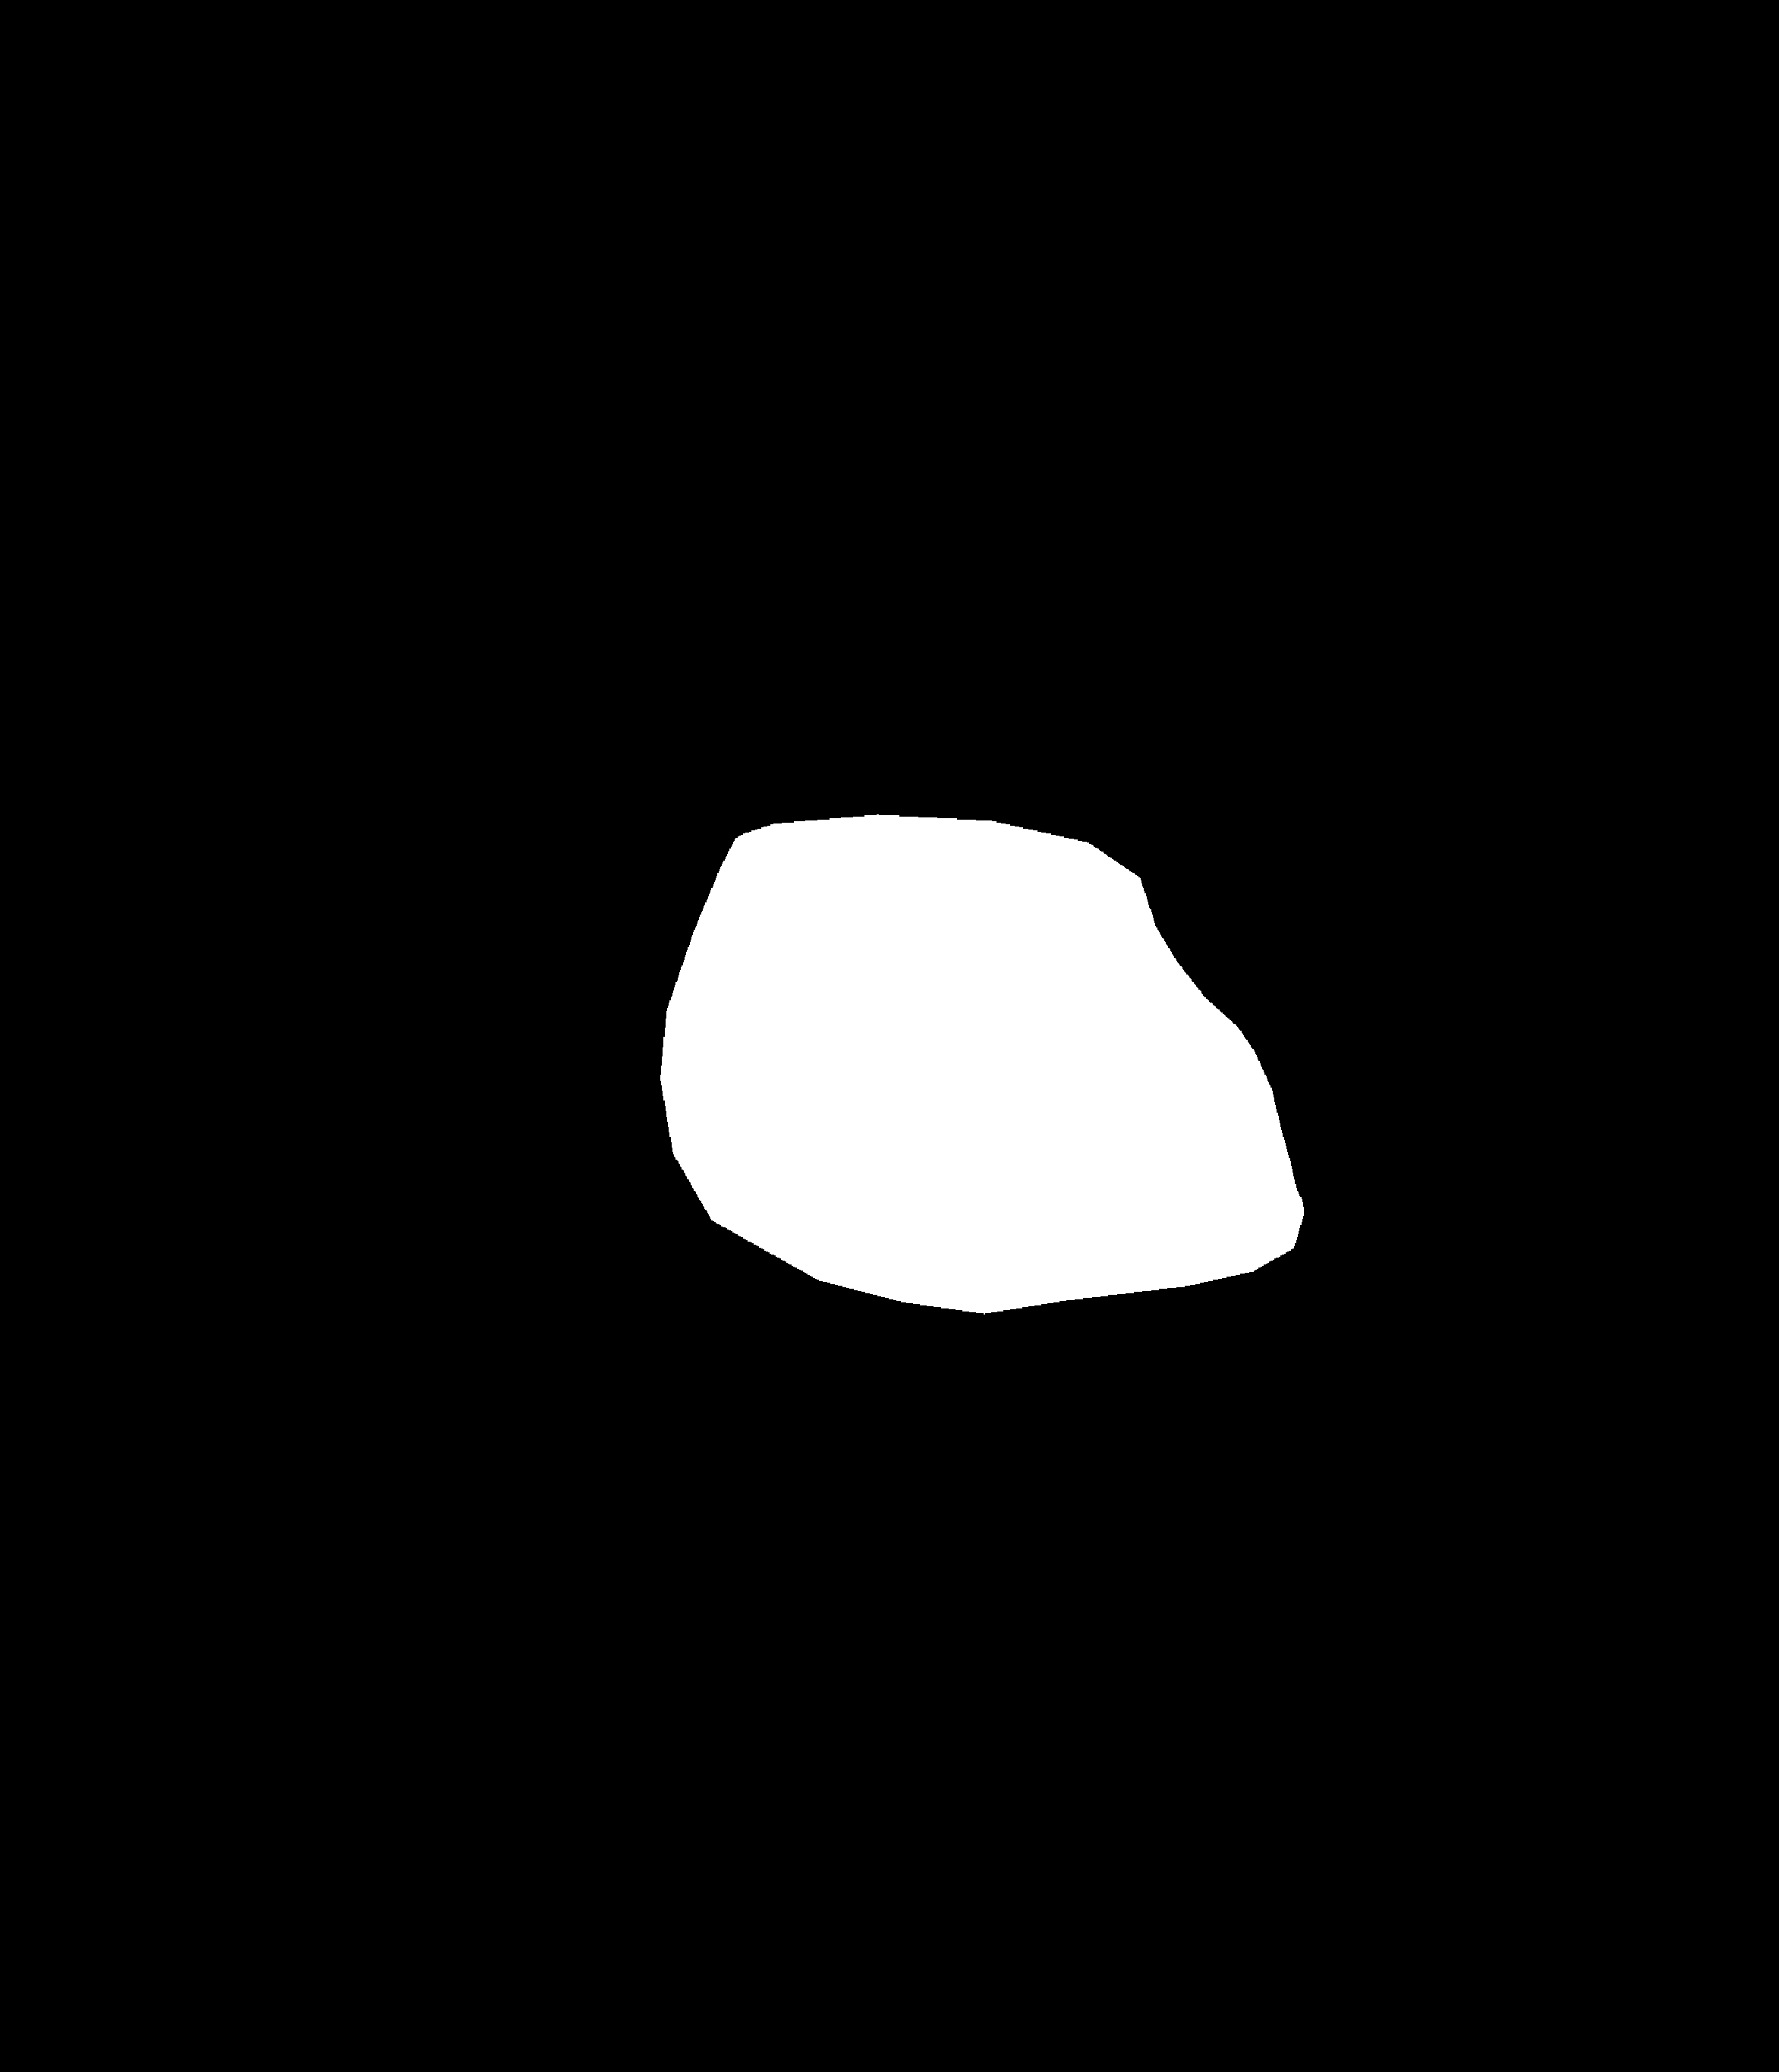heart: (648, 934, 1319, 1311)
left_lung: (231, 187, 736, 1267)
right_lung: (979, 152, 1554, 1344)
